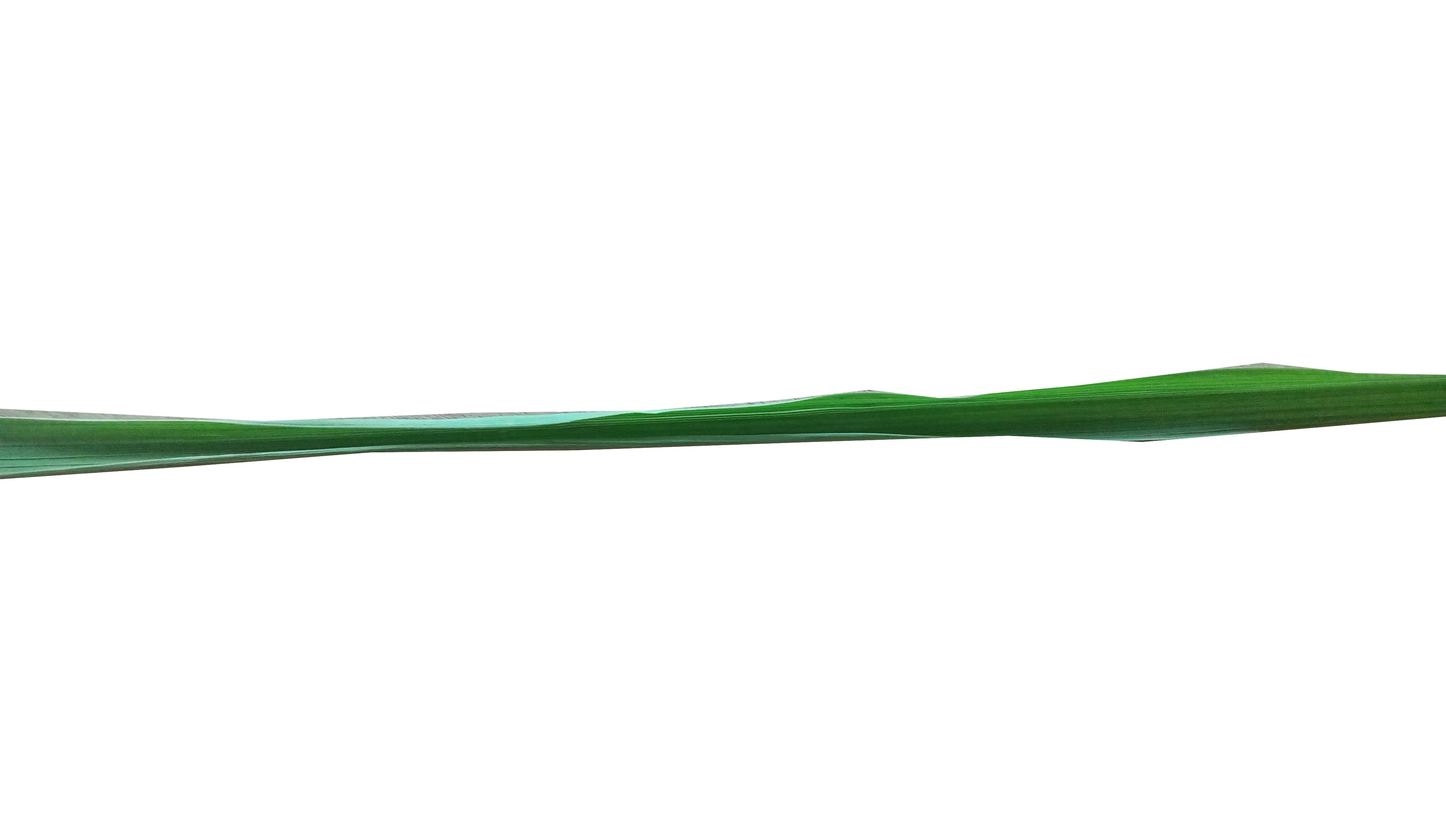Healthy: (0, 366, 1446, 480)
